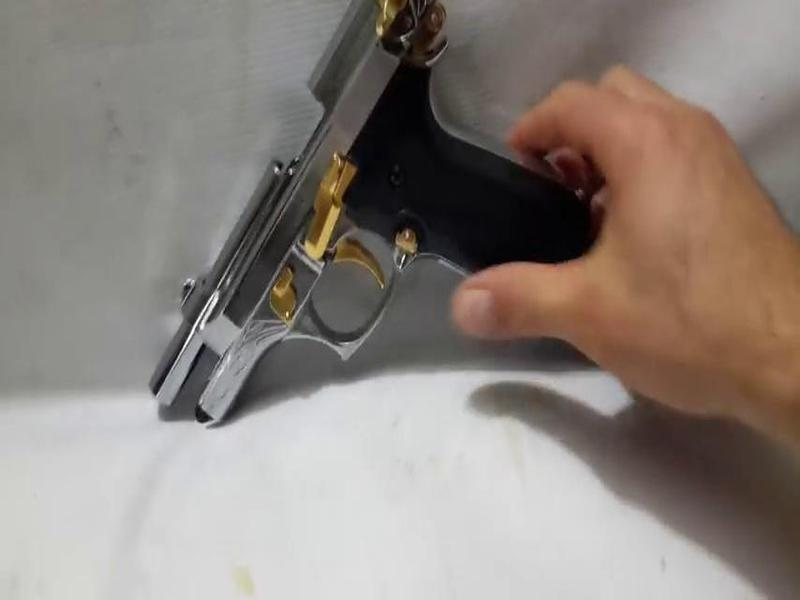Pistola: (150, 1, 607, 443)
